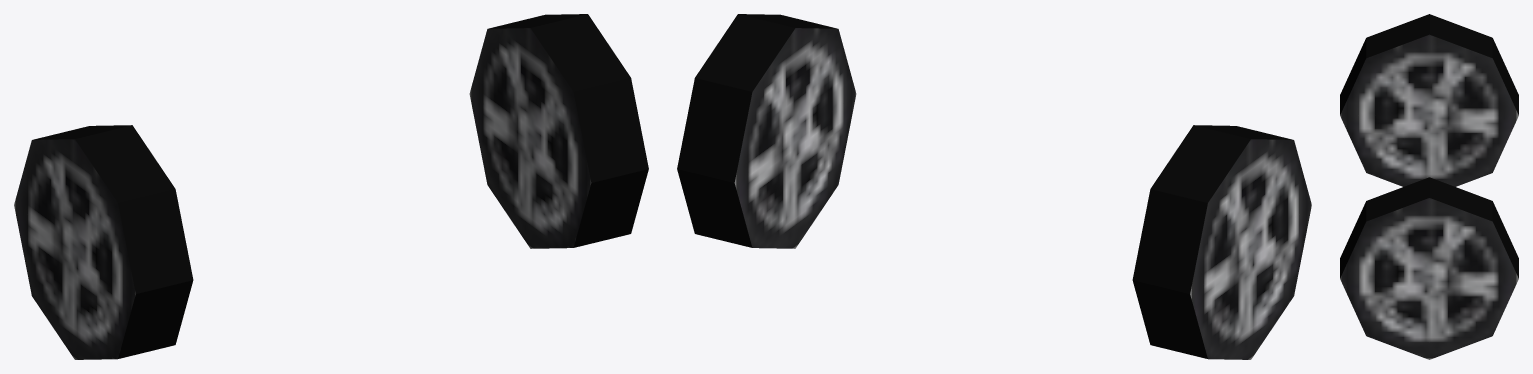
File: audi_saloon_wheels_f.obj
3 views of the same model, side by side, from view 1: azimuth 30°, elevation 25°; view 2: azimuth 150°, elevation 25°; view 3: azimuth 270°, elevation 25° (orthographic). The views are drawn at different scales.
Parts seen in each view (by area): view 1: audi_saloon_wheels_f; view 2: audi_saloon_wheels_f; view 3: audi_saloon_wheels_f.
Boxes of the visible parts, box(x1,y1,x2,y2) form: audi_saloon_wheels_f: box(14, 14, 648, 359); audi_saloon_wheels_f: box(677, 14, 1311, 359); audi_saloon_wheels_f: box(1340, 14, 1518, 359).
Bounding box in the file's own units: 1.66 × 0.6824 × 0.6824.
Materials: 1 (1 with a texture image).
